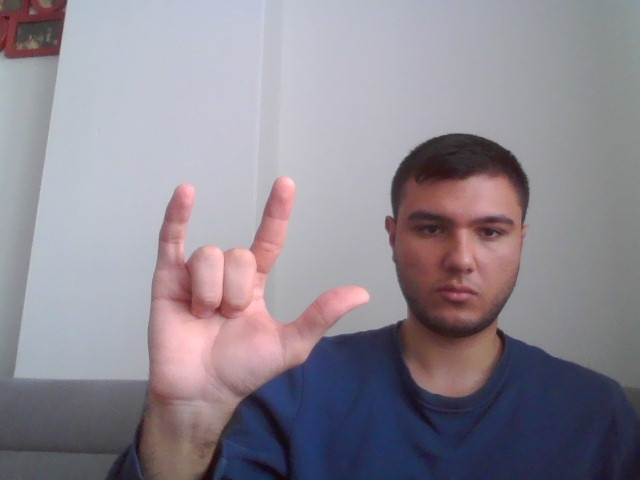ı love you: (147, 179, 367, 401)
